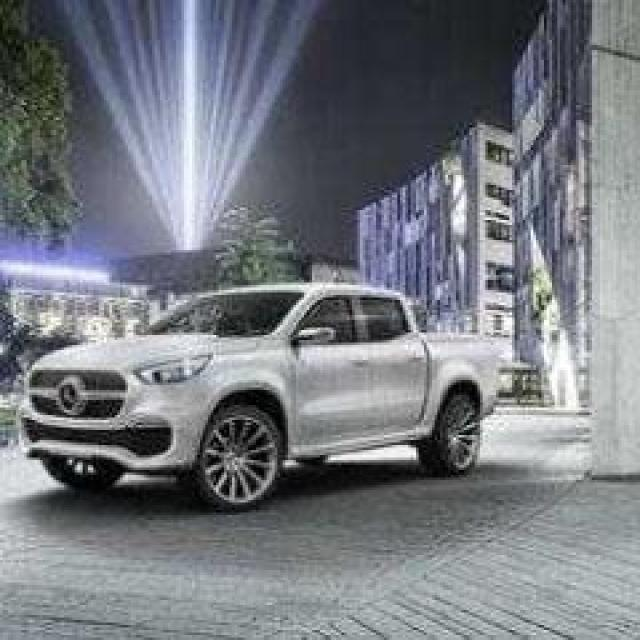car: (15, 255, 529, 525)
